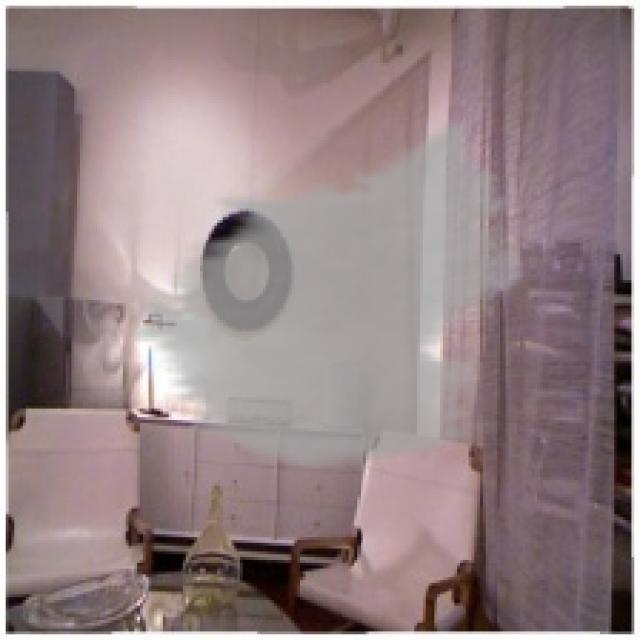smoke: (120, 117, 540, 474)
